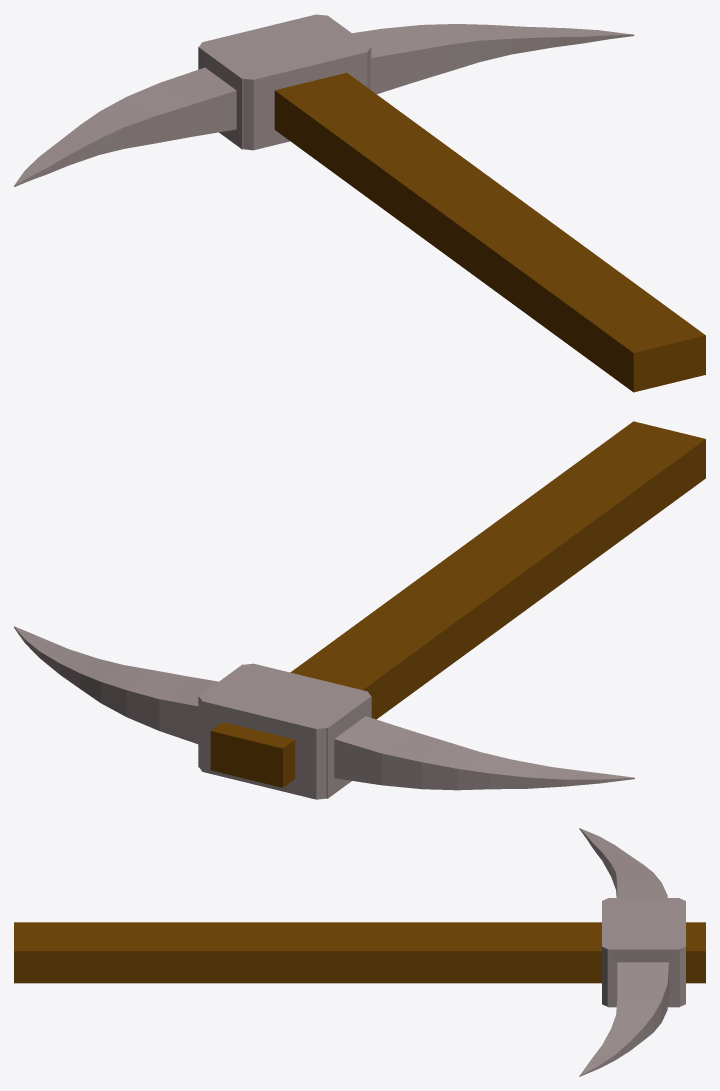
The model's file is pickaxe.fbx.
The picture shows the model from 3 angles, top to bottom: view 1: azimuth 30°, elevation 25°; view 2: azimuth 150°, elevation 25°; view 3: azimuth 270°, elevation 25°; orthographic projection. The views are drawn at different scales.
Visible parts, largest first — view 1: Cube.001, Cube; view 2: Cube.001, Cube; view 3: Cube.001, Cube.
Part boxes in pixels (bbox=[...]): Cube.001: bbox=[274, 72, 705, 392]; Cube: bbox=[14, 14, 634, 186]; Cube.001: bbox=[210, 421, 705, 787]; Cube: bbox=[14, 626, 634, 799]; Cube.001: bbox=[14, 922, 705, 983]; Cube: bbox=[579, 828, 685, 1076].
Bounding box in the file's own units: 424 × 46.09 × 501.
